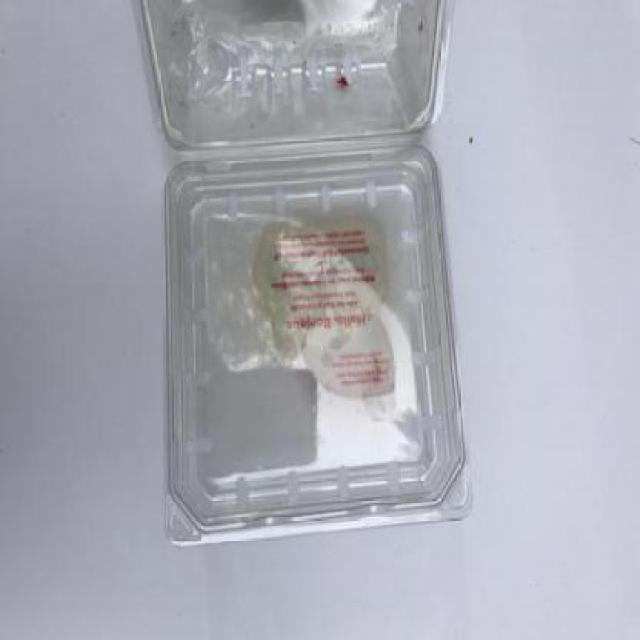PLASTIC: (132, 2, 478, 549), (161, 142, 476, 546), (133, 2, 456, 160)
